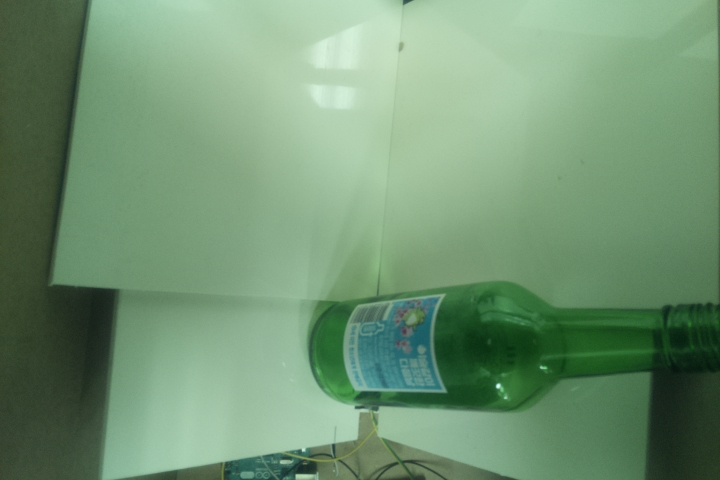soju: (306, 279, 720, 418)
